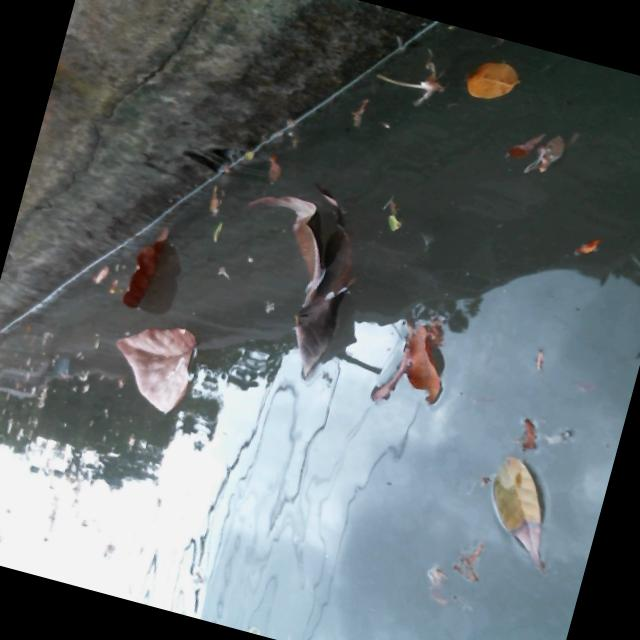Big-leaf: (209, 182, 375, 386), (356, 283, 484, 440), (94, 304, 220, 424), (112, 212, 189, 325)
Small-leaf: (462, 442, 570, 573), (493, 112, 583, 184), (466, 49, 542, 116), (335, 83, 382, 135), (243, 138, 291, 187), (373, 189, 424, 235), (558, 223, 611, 266), (198, 179, 228, 218), (506, 414, 537, 449), (198, 218, 224, 248), (86, 260, 113, 288)
